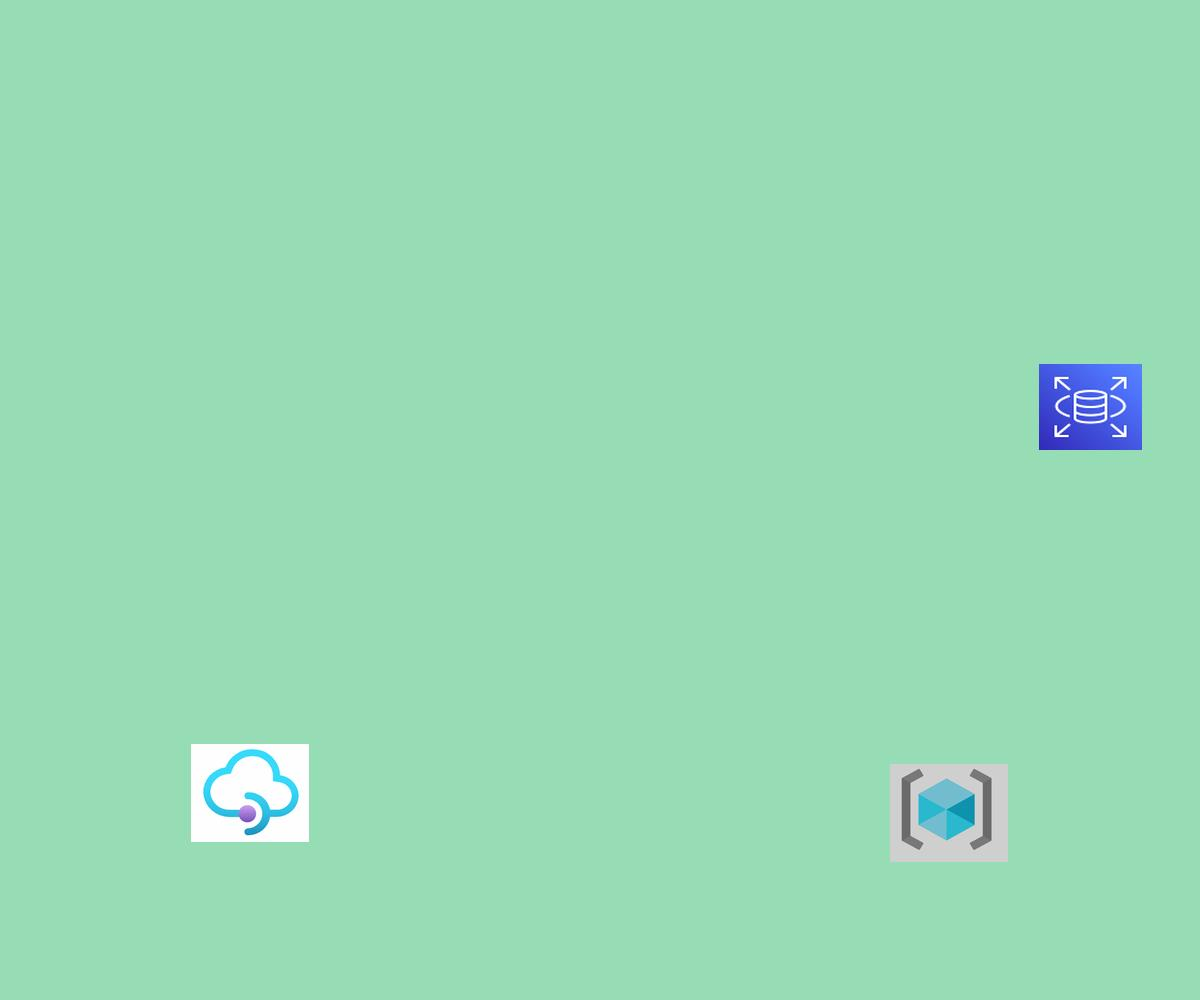AWS-RDS: (1039, 364, 1142, 450)
Azure_api_gateway: (191, 744, 309, 842)
Azure_resource_group: (890, 764, 1008, 862)
